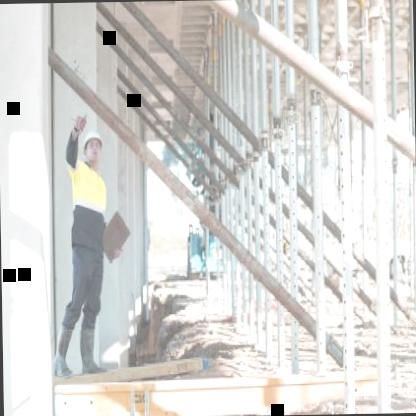helmet: (80, 120, 106, 172)
